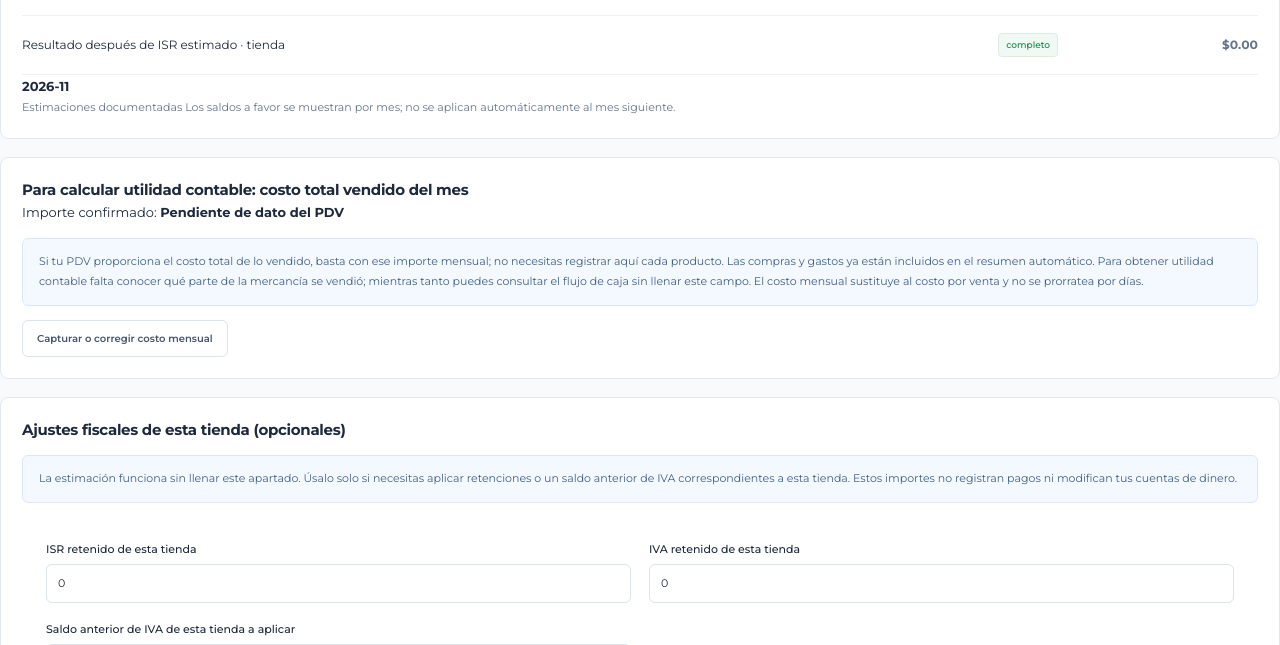
Test: guarda un costo mensual independiente y no exige registrar productos
(page scrolled)
Click the button "Capturar o corregir costo mensual": (125, 338) [22, 320, 228, 357]
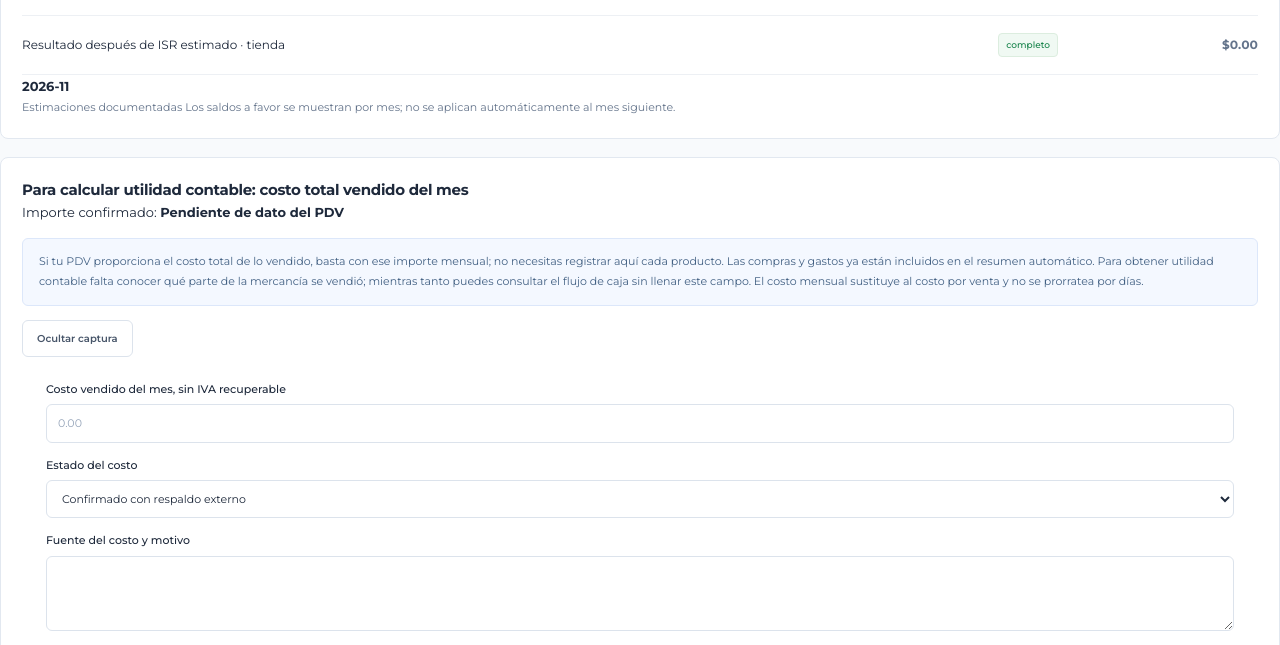
In the number field labelled "Costo vendido del mes, sin IVA recuperable": (640, 423) [46, 404, 1234, 443], type "400"
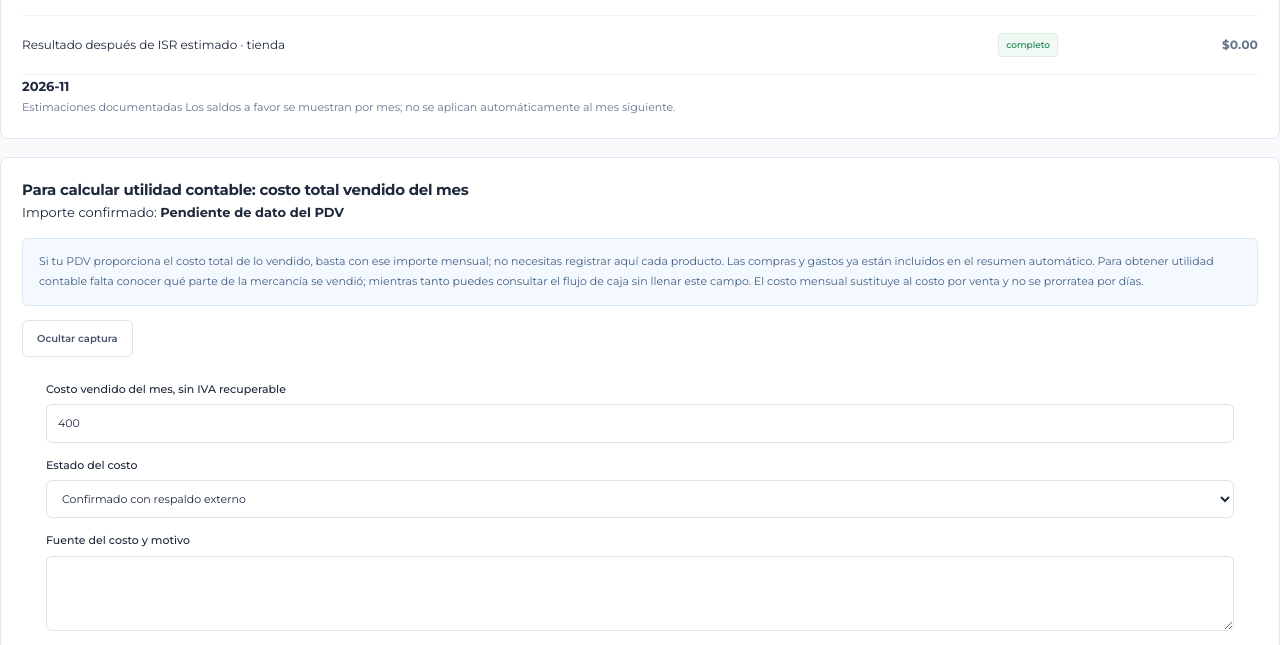
In the text box labelled "Fuente del costo y motivo": (640, 593) [46, 556, 1234, 631], type "Reporte externo de costos mensual"
(page scrolled)
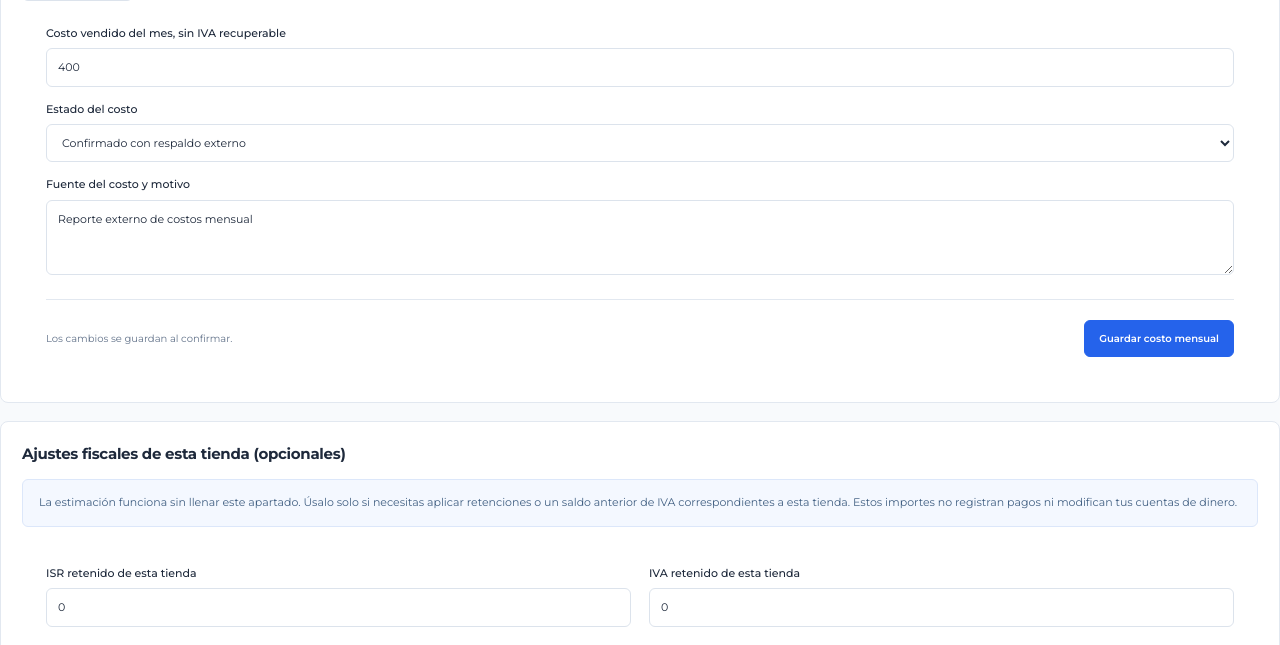
Click the button "Guardar costo mensual": (1159, 338) [1084, 320, 1234, 357]
(page scrolled)
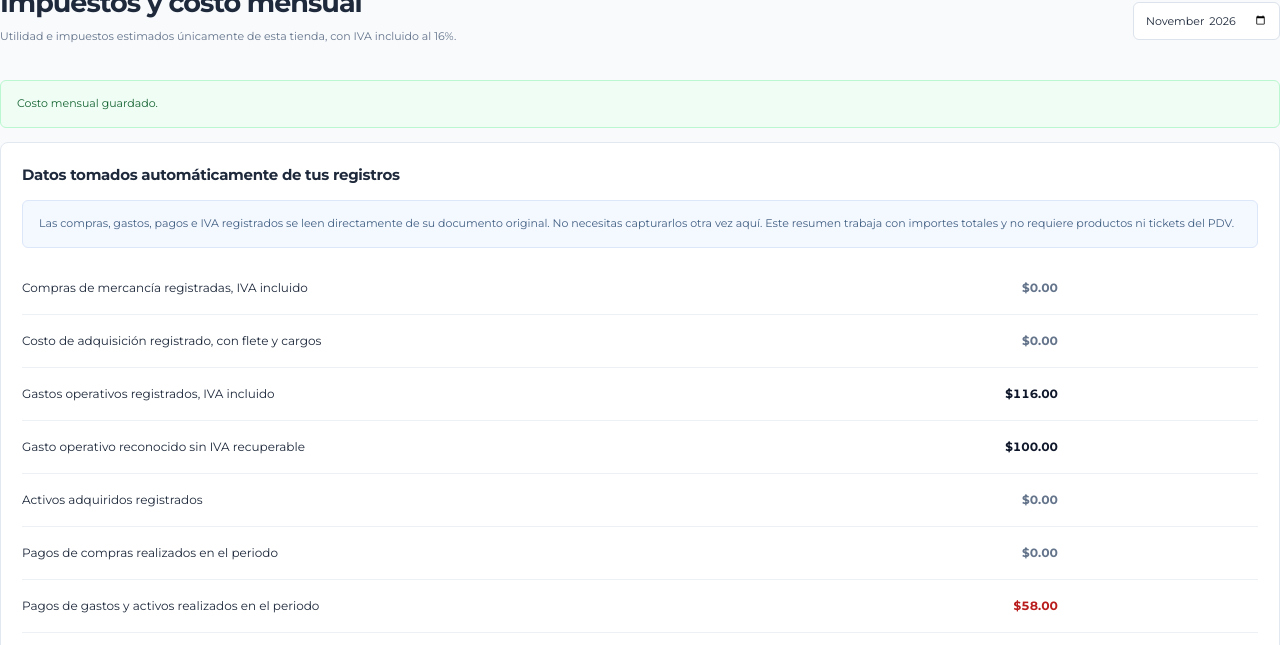
expect the text "Costo mensual guardado." is shown: met, box [0, 80, 1279, 128]
